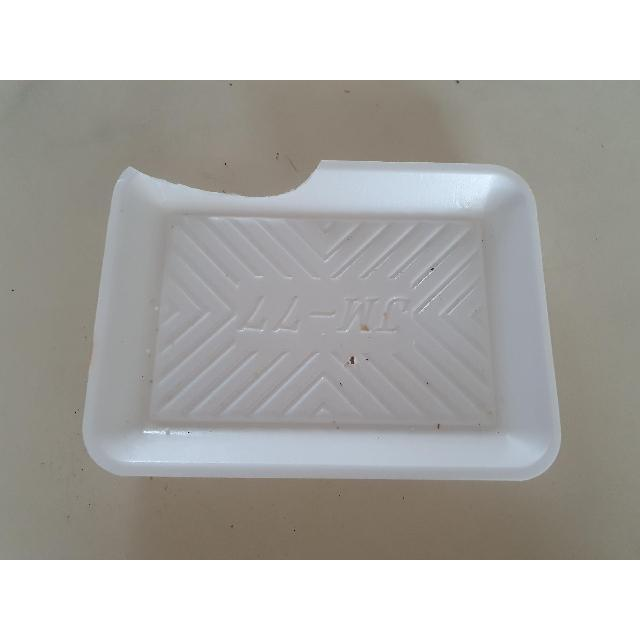Recipiente plastico: (82, 161, 560, 479)
